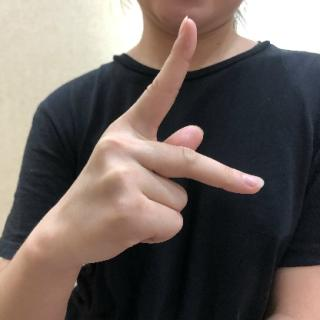DHAA: (37, 14, 278, 275)
